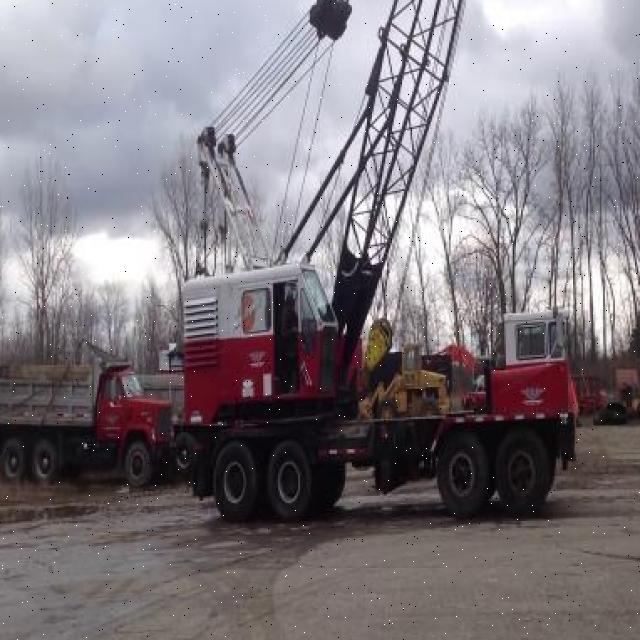Dump Truck: (1, 358, 172, 488)
Mobile Crane: (179, 0, 575, 521)
